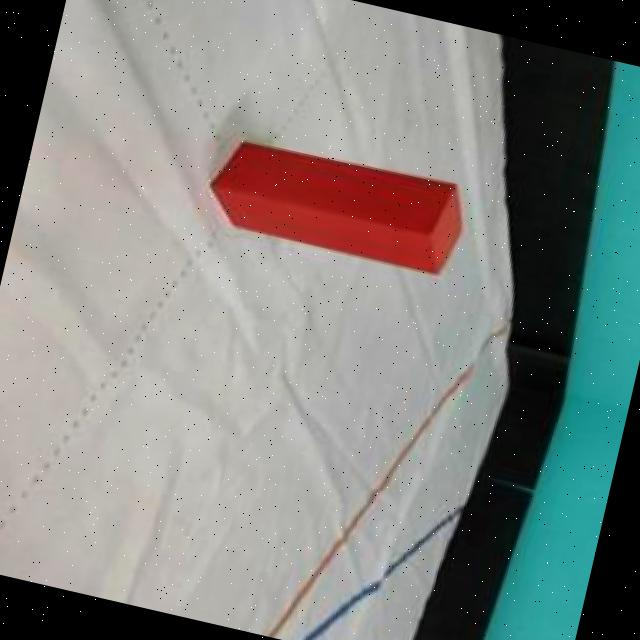redbox: (202, 131, 472, 278)
